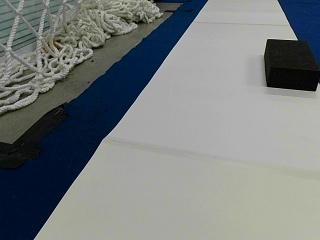block: (263, 37, 318, 90)
